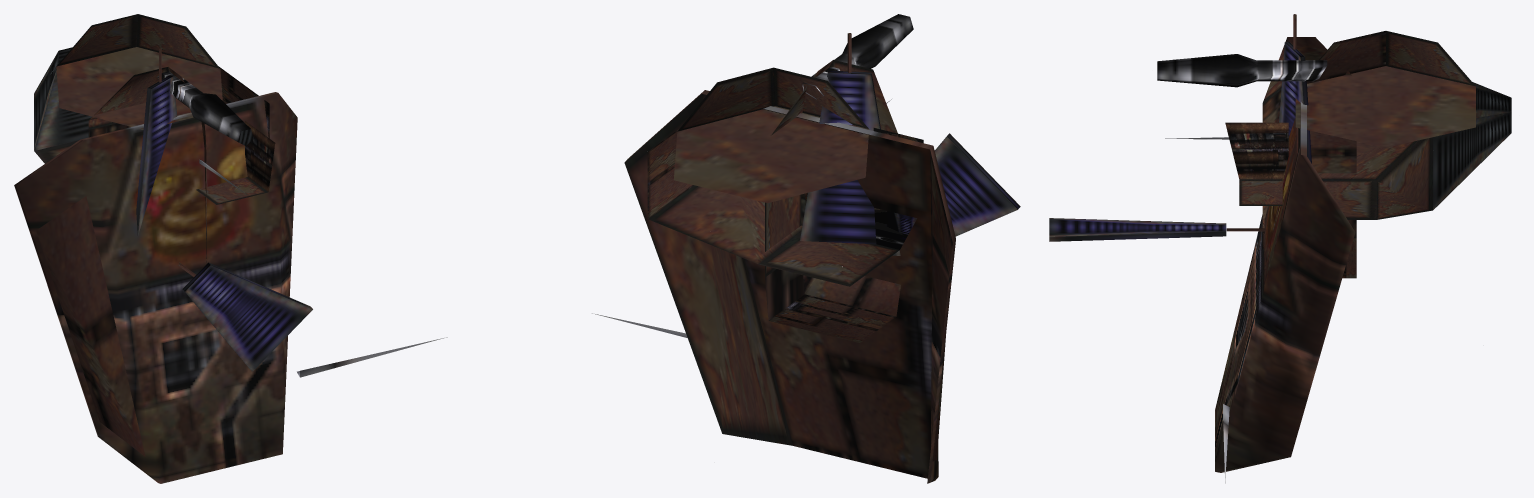
File: utl205.obj
The picture shows the model from 3 angles, left to right: view 1: azimuth 30°, elevation 25°; view 2: azimuth 150°, elevation 25°; view 3: azimuth 270°, elevation 25°; orthographic projection. The views are drawn at different scales.
Visible parts, largest first — view 1: frm-cube45, frm-sphere1, frm-cube33, frm-cube38, frm-cube44, frm-cube46, frm-cyl2, frm-cube37, frm-tetra1; view 2: frm-cube45, frm-sphere1, frm-cube38, frm-cube37, frm-cube44, frm-cube33, frm-cyl2; view 3: frm-cube45, frm-sphere1, frm-cube38, frm-cube46, frm-cyl2, frm-cube37, frm-cube33, frm-cube44.
Part boxes in pixels (box(x1,y1,x2,y2)): frm-cube45: box(14, 92, 297, 483); frm-sphere1: box(56, 14, 222, 129); frm-cube33: box(182, 262, 312, 371); frm-cube38: box(34, 47, 269, 163); frm-cube44: box(136, 75, 177, 235); frm-cube46: box(196, 121, 275, 204); frm-cyl2: box(161, 71, 253, 145); frm-cube37: box(88, 67, 206, 262); frm-tetra1: box(297, 337, 447, 377); frm-cube45: box(624, 90, 955, 483); frm-sphere1: box(674, 67, 869, 202); frm-cube38: box(647, 128, 923, 286); frm-cube37: box(765, 60, 900, 342); frm-cube44: box(800, 70, 900, 255); frm-cube33: box(934, 133, 1020, 236); frm-cyl2: box(802, 14, 913, 99); frm-cube45: box(1215, 102, 1355, 472); frm-sphere1: box(1295, 31, 1475, 147); frm-cube38: box(1318, 82, 1511, 219); frm-cube46: box(1225, 122, 1288, 205); frm-cyl2: box(1157, 54, 1327, 87); frm-cube37: box(1262, 37, 1356, 278); frm-cube33: box(1049, 218, 1226, 241); frm-cube44: box(1279, 41, 1311, 163).
Bounding box in the file's own units: 7.77 × 7.94 × 8.14.
